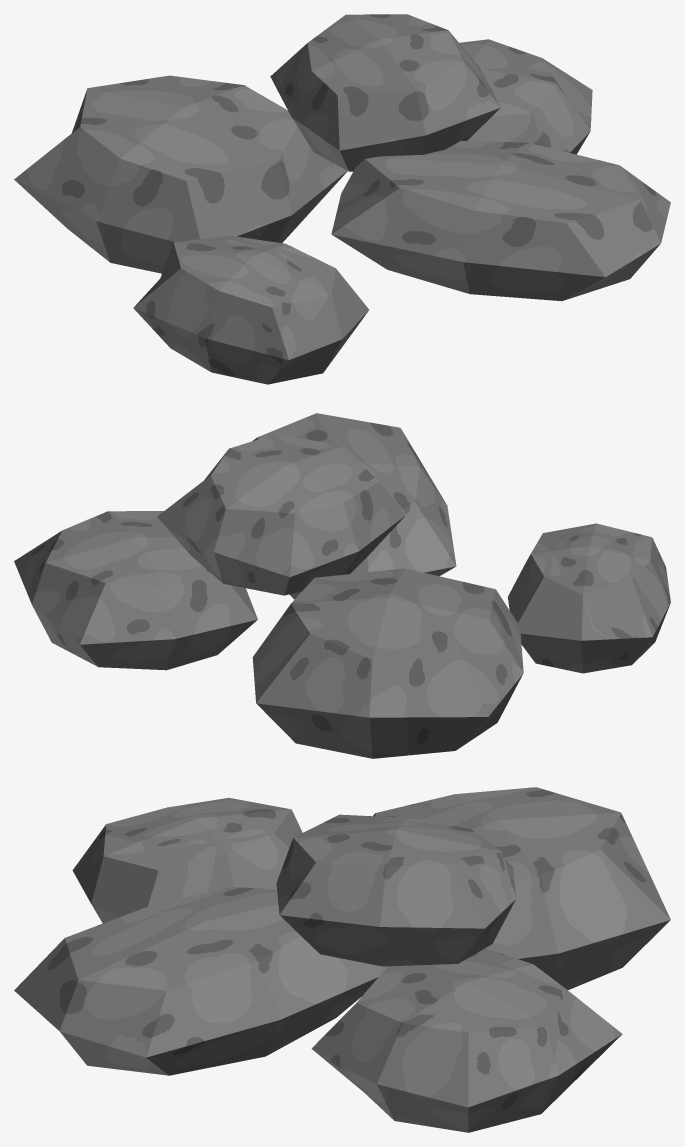
The model's file is pebbles.fbx.
The picture shows the model from 3 angles, top to bottom: view 1: azimuth 30°, elevation 25°; view 2: azimuth 150°, elevation 25°; view 3: azimuth 270°, elevation 25°; orthographic projection. The views are drawn at different scales.
Visible parts, largest first — view 1: Pebble3, Pebble2, Pebble5, Pebble4, Pebble1; view 2: Pebble3, Pebble1, Pebble5, Pebble4, Pebble2; view 3: Pebble2, Pebble1, Pebble5, Pebble3, Pebble4.
Boxes of the visible parts, <box> form: Pebble3: <box>14,75,347,273</box>; Pebble2: <box>331,140,670,301</box>; Pebble5: <box>270,14,500,171</box>; Pebble4: <box>133,235,369,384</box>; Pebble1: <box>459,39,592,154</box>; Pebble3: <box>252,568,523,758</box>; Pebble1: <box>14,511,257,670</box>; Pebble5: <box>157,434,405,595</box>; Pebble4: <box>507,523,670,673</box>; Pebble2: <box>252,413,456,599</box>; Pebble2: <box>14,887,387,1075</box>; Pebble1: <box>311,948,622,1132</box>; Pebble5: <box>276,814,515,966</box>; Pebble3: <box>373,787,670,989</box>; Pebble4: <box>72,798,302,923</box>.
Size of the model in its own units: 74.28 by 24.79 by 69.5.
Materials: 1 (1 with a texture image).
